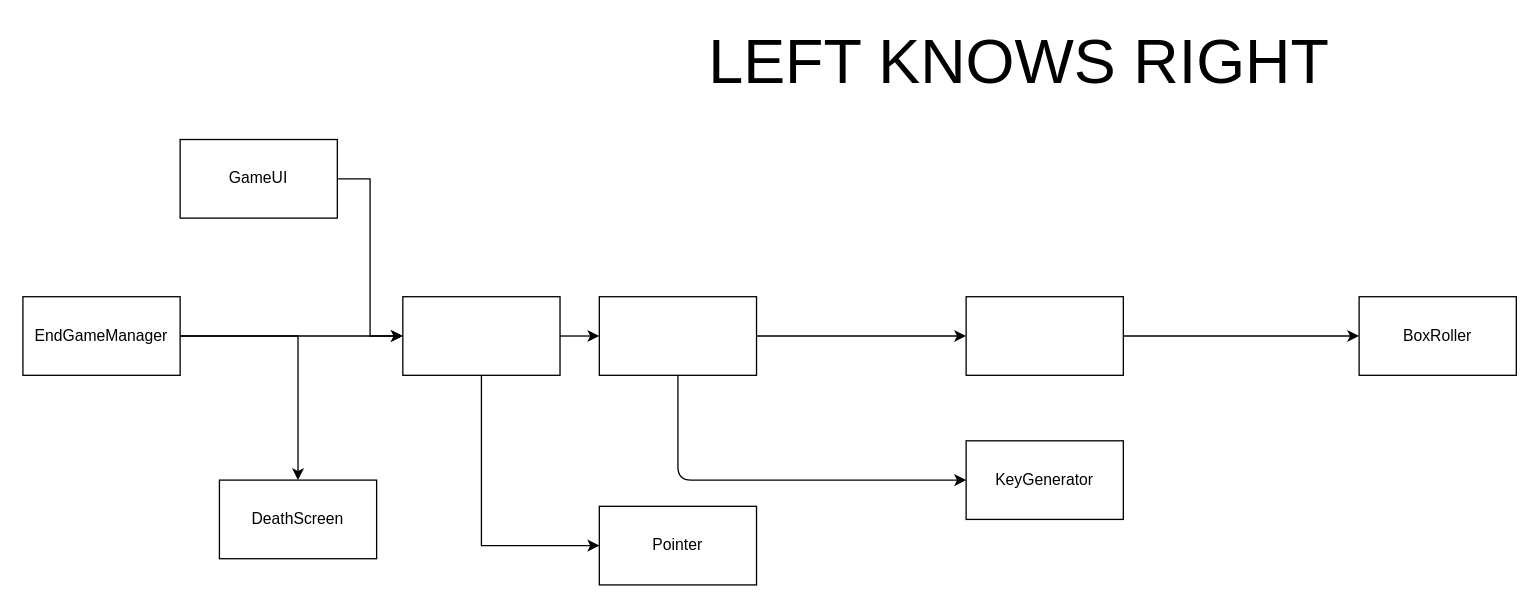
This 1539x608 diagram has some shape labels left out. The centre of each missing label's shape, as x and y in pixels:
"BoxManager" belongs at pixel 677 335.
"BoxSpawner" belongs at pixel 1044 335.
"GameManager" belongs at pixel 481 335.
